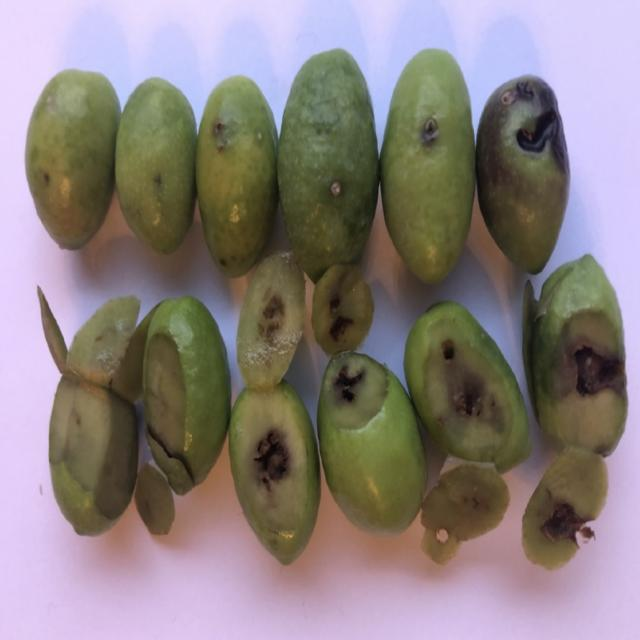Olive Fruit Fly: (523, 254, 627, 569), (279, 48, 379, 276), (380, 48, 475, 282), (404, 302, 529, 473), (318, 351, 427, 532), (477, 75, 569, 274), (25, 69, 119, 249), (229, 380, 320, 563), (197, 76, 278, 277), (116, 78, 196, 253)
